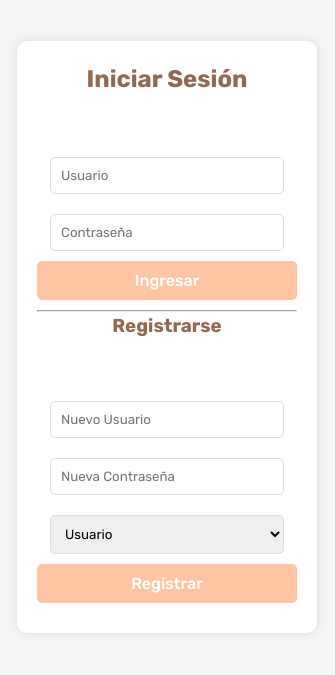
Test: Componente Login › registra un nuevo usuario correctamente
The width and height of the screenshot is (335, 675).
Type "juan" into the field with placeholder "Nuevo Usuario" at [167, 419], box [50,400,284,438]
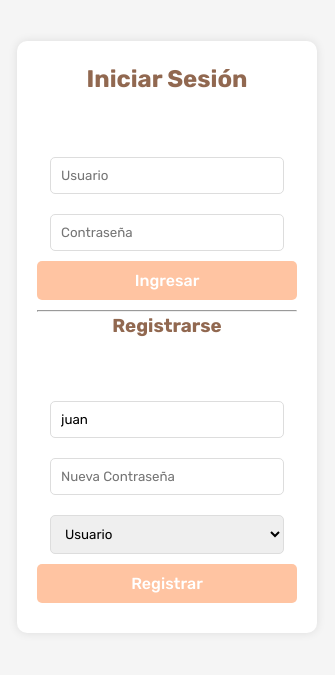
Type "1234" into the password field with placeholder "Nueva Contraseña" at [167, 476], box [50,458,284,494]
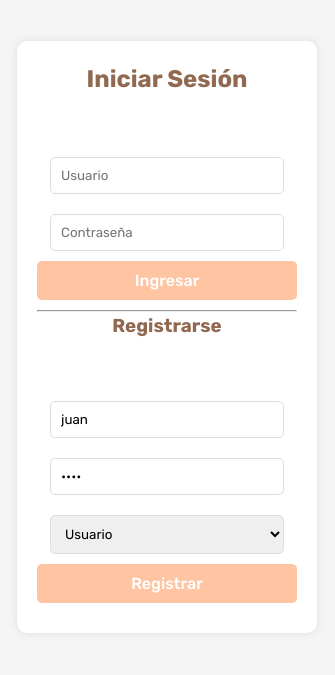
Select "Administrador" in the dropdown showing "Usuario" at [167, 534], box [50,514,284,554]
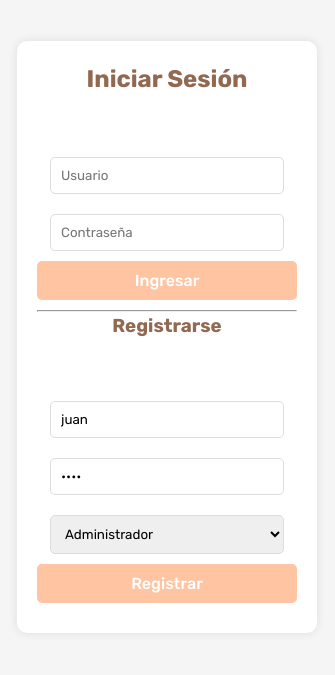
Click the button "Registrar" at [167, 583], box [37,564,297,602]
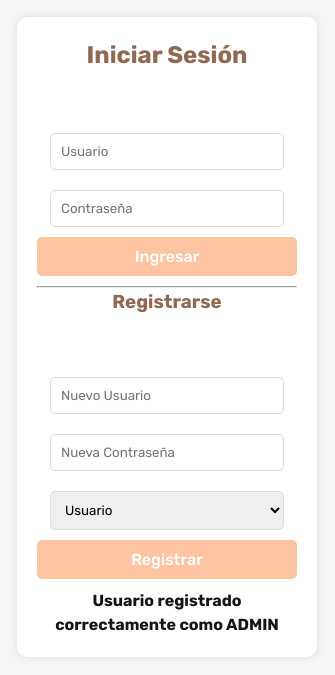
Check: the text "Usuario registrado correctamente como ADMIN" is shown, box [37,588,297,636]
